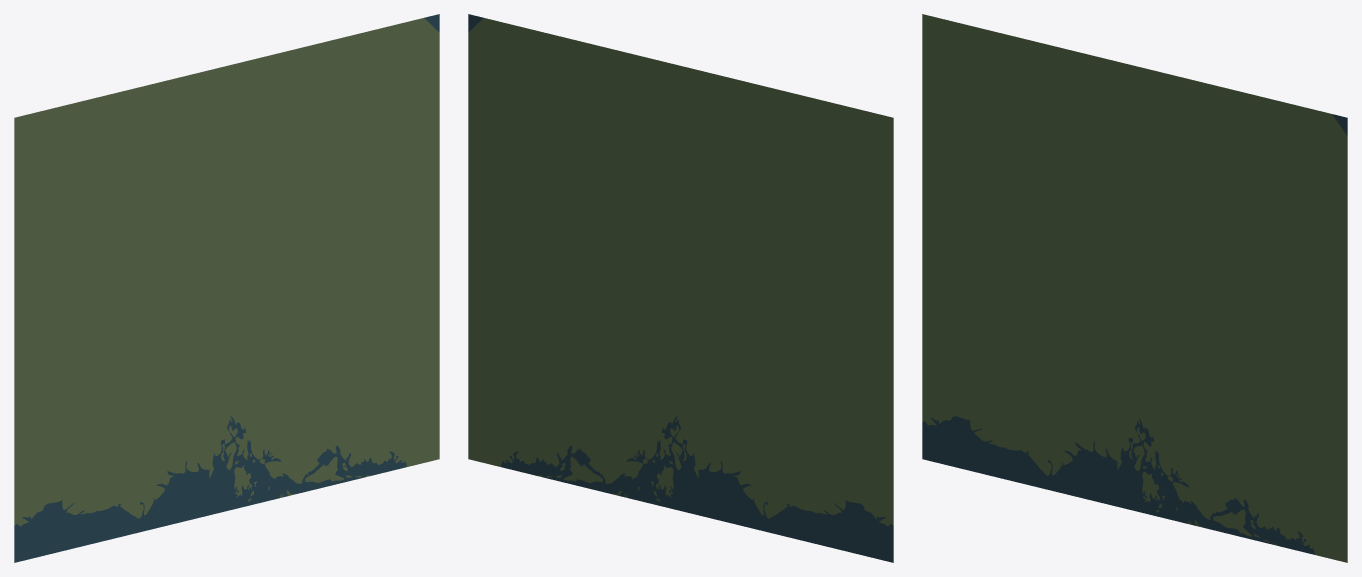
File: shape_115_Coast_15.glb
3 views of the same model, side by side, from view 1: azimuth 30°, elevation 25°; view 2: azimuth 150°, elevation 25°; view 3: azimuth 330°, elevation 25° (orthographic).
Bounding box in the file's own units: 4096 × 4096 × 0.
